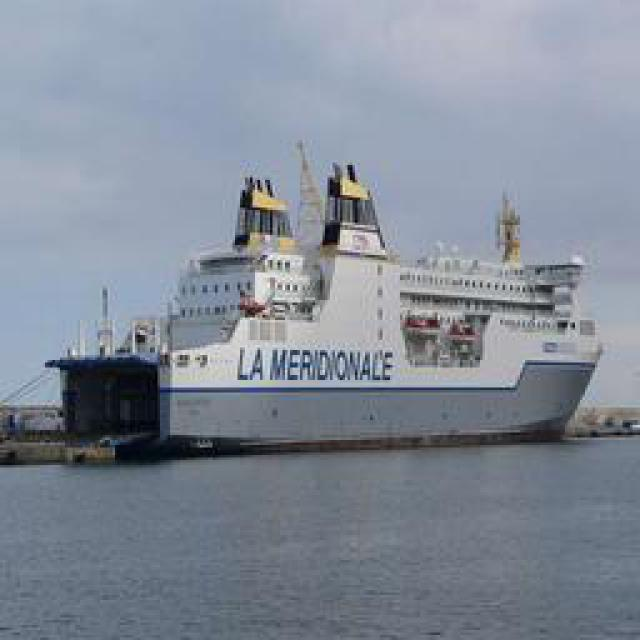Ship: (30, 144, 603, 461)
